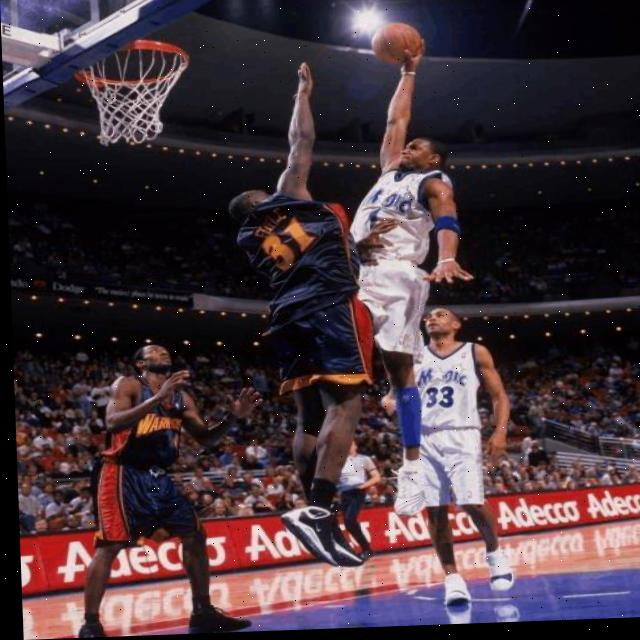basketball: (370, 22, 420, 64)
hoop: (72, 38, 193, 148)
